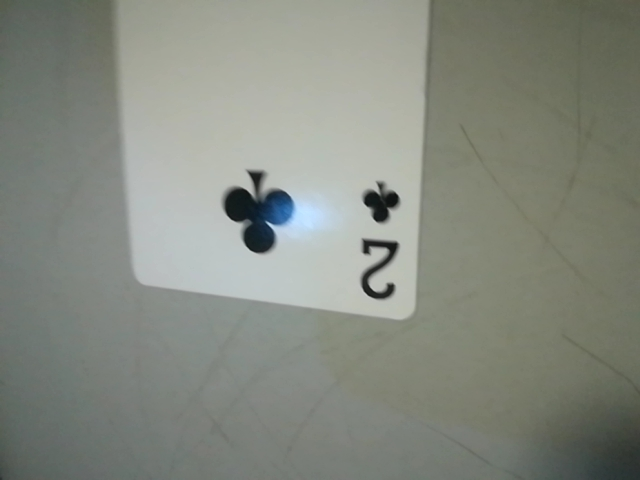mh 2: (344, 165, 417, 315)
